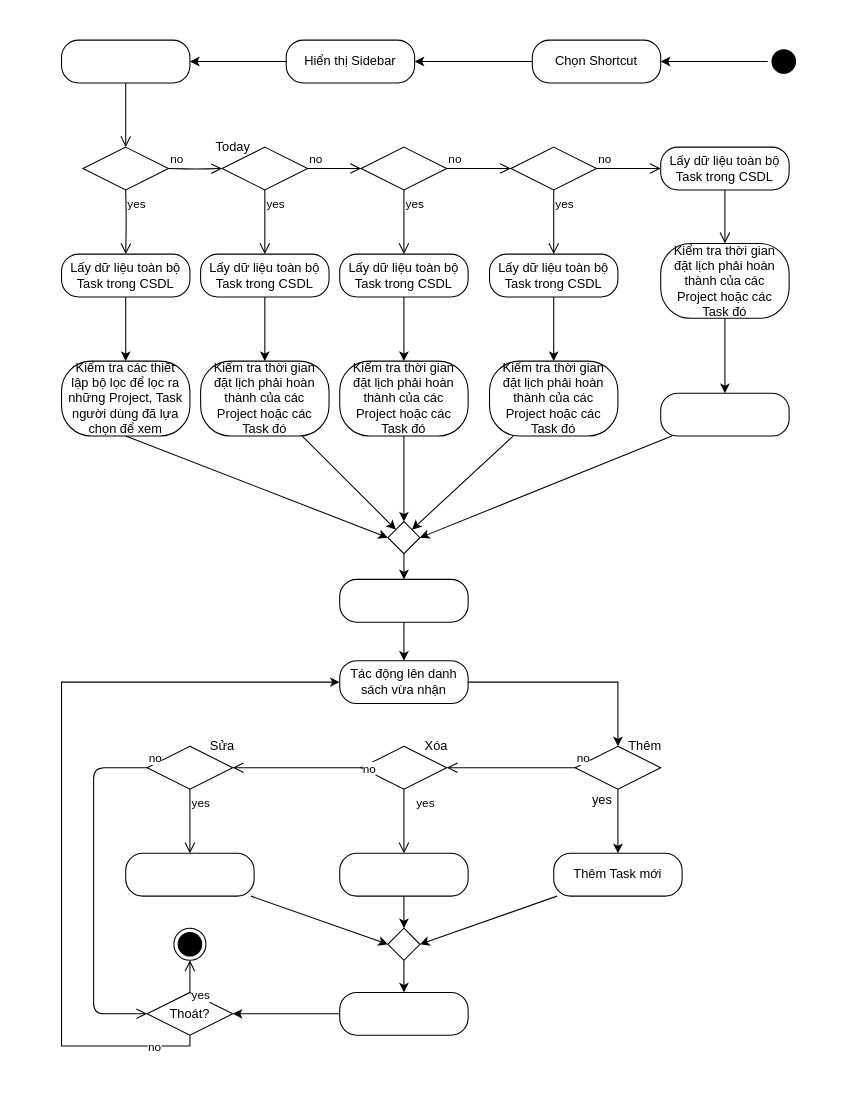
The diagram is 850 pixels wide and 1096 high, and some of its shapes have lost their labels. Each missing label, with the centre of its shape:
Chọn Dự án mặc định: the point at 125,61
Cập nhập danh sách Task: the point at 403,1013
Hiển thị danh sách Task vừa lọc: the point at 403,600
Inbox: the point at 125,168
Kiểm tra thiết lập bộ lọc thời gian: the point at 724,414
Sửa Task đang được trỏ vào: the point at 189,874
Tomorrow: the point at 403,168
Week: the point at 553,168
Xóa Task được chọn: the point at 403,874
